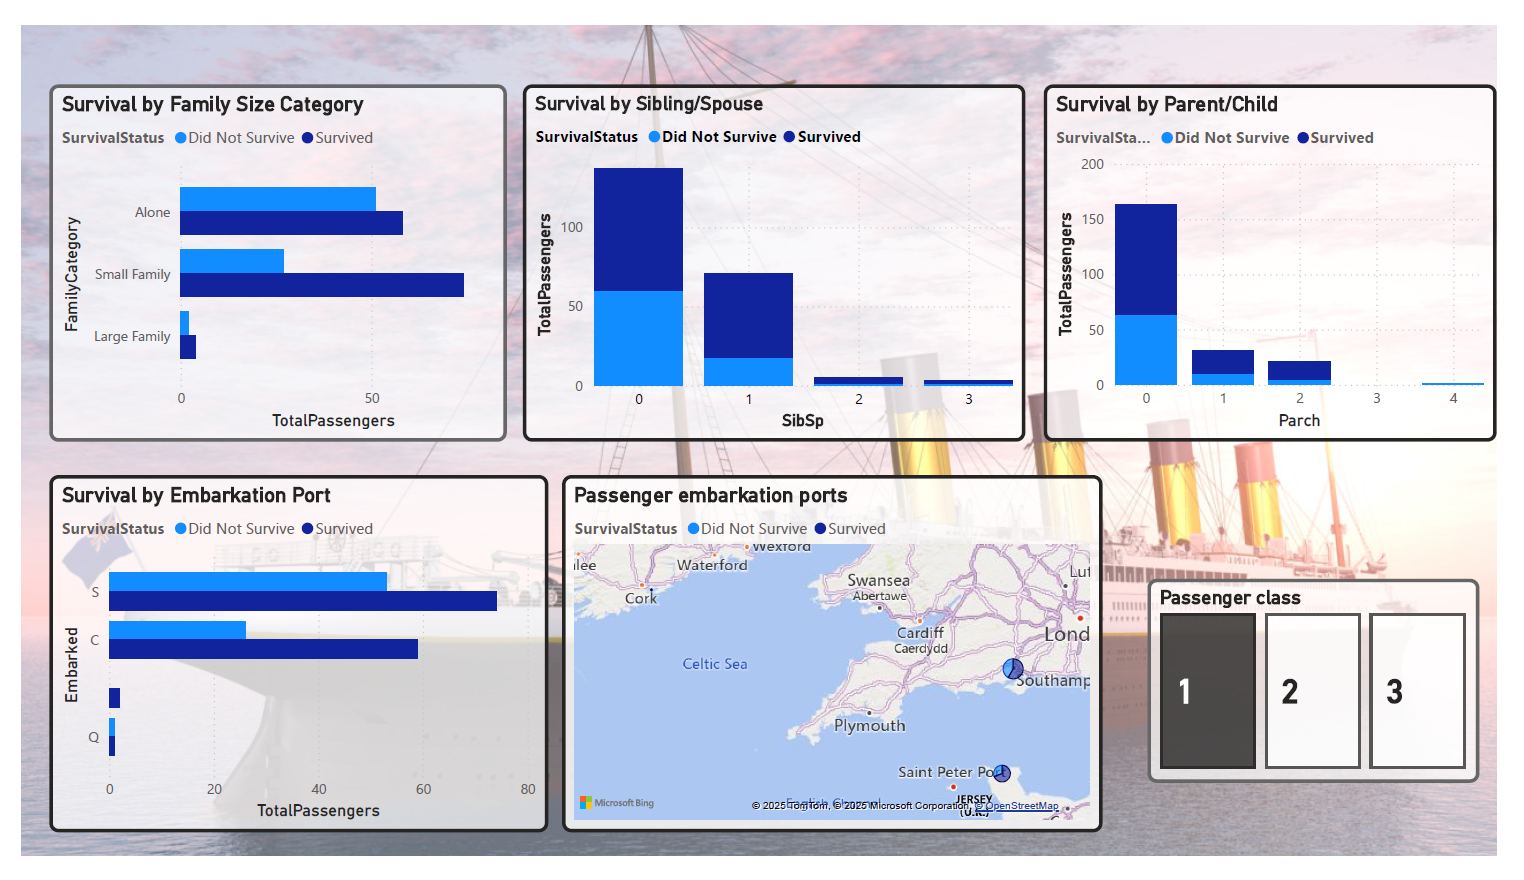

The dashboard page shown, as its layout file describes it:
{"tool":"powerbi","page":{"name":"Family & Embarkation","canvas":[1280,720],"ordinal":2},"visuals":[{"type":"clusteredBarChart","title":"Survival by Family Size Category","fields":{"Category":["Titanic dataset.FamilyCategory"],"Y":["Titanic dataset.TotalPassengers"],"Series":["Titanic dataset.SurvivalStatus"]},"box":[24.3,50.6,397,309.9],"z":0},{"type":"columnChart","title":"Survival by Sibling/Spouse","fields":{"Category":["Titanic dataset.SibSp"],"Series":["Titanic dataset.SurvivalStatus"],"Y":["Titanic dataset.TotalPassengers"]},"box":[435.4,50.6,435.4,309.9],"z":1000},{"type":"columnChart","title":"Survival by Parent/Child","fields":{"Category":["Titanic dataset.Parch"],"Series":["Titanic dataset.SurvivalStatus"],"Y":["Titanic dataset.TotalPassengers"]},"box":[887.1,50.6,392.9,309.9],"z":2000},{"type":"clusteredBarChart","title":"Survival by Embarkation Port","fields":{"Category":["Titanic dataset.Embarked"],"Y":["Titanic dataset.TotalPassengers"],"Series":["Titanic dataset.SurvivalStatus"]},"box":[23.9,389.7,432.6,310.2],"z":3000},{"type":"map","title":"Passenger embarkation ports","fields":{"Category":["Titanic dataset.EmbarkedCity"],"Size":["Titanic dataset.TotalPassengers"],"Series":["Titanic dataset.SurvivalStatus"],"Y":["Avg(Titanic dataset.Embarked_Latitude)"],"X":["Avg(Titanic dataset.Embarked_Longitude)"]},"box":[469.2,389.7,469.2,310.2],"z":4000},{"type":"advancedSlicerVisual","title":"Passenger class","fields":{"Values":["Titanic dataset.Pclass"]},"box":[976.6,480.4,287.9,176.6],"z":5000}]}

Visuals, with their boxes in screenshot pixels (x1, y1, x2, y2), scaled from the page's 1280x720 canvas onto the 1524x880 screenshot:
"Survival by Family Size Category" clusteredBarChart: 29, 62, 502, 441
"Survival by Sibling/Spouse" columnChart: 518, 62, 1037, 441
"Survival by Parent/Child" columnChart: 1056, 62, 1523, 441
"Survival by Embarkation Port" clusteredBarChart: 28, 476, 544, 855
"Passenger embarkation ports" map: 559, 476, 1117, 855
"Passenger class" advancedSlicerVisual: 1163, 587, 1506, 803
